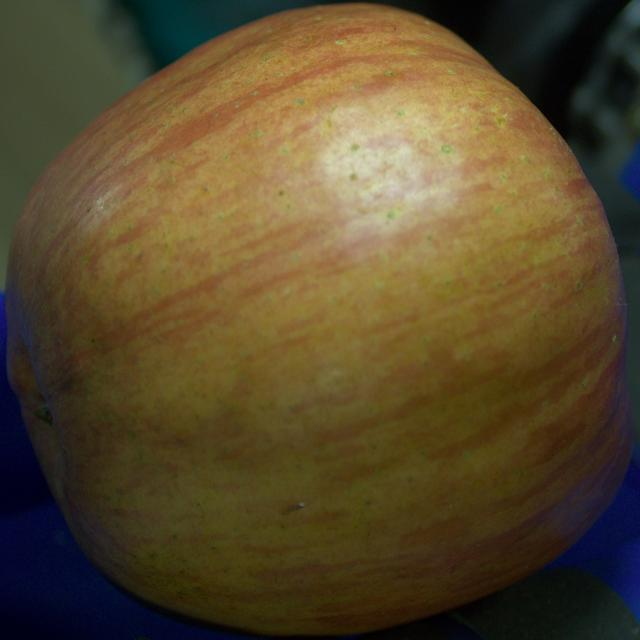apple: (6, 4, 632, 636)
